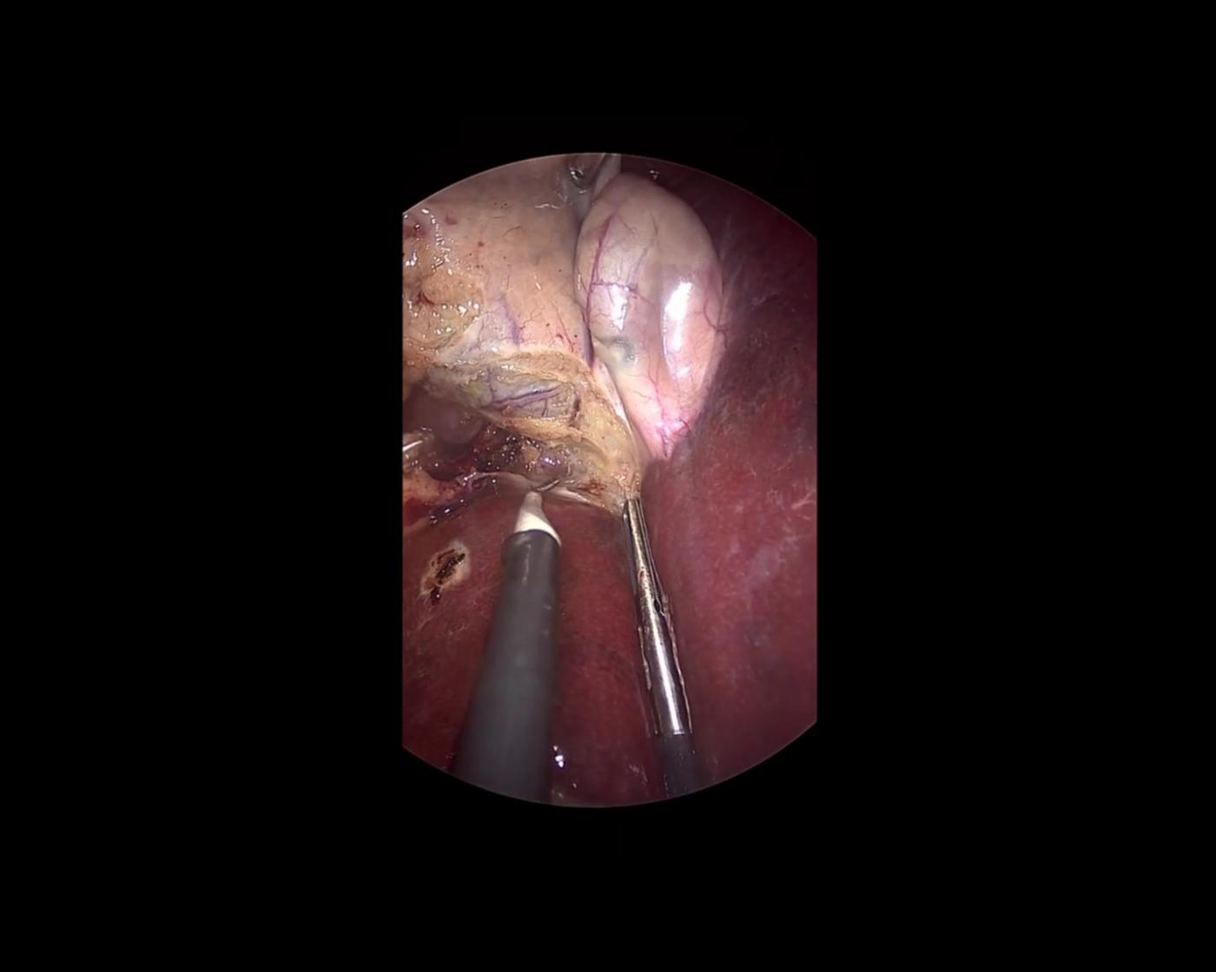Cautery: (450, 472, 562, 804)
Forceps: (601, 494, 706, 799)
Gallbladder: (365, 114, 750, 470)
Liver: (399, 156, 814, 805)
